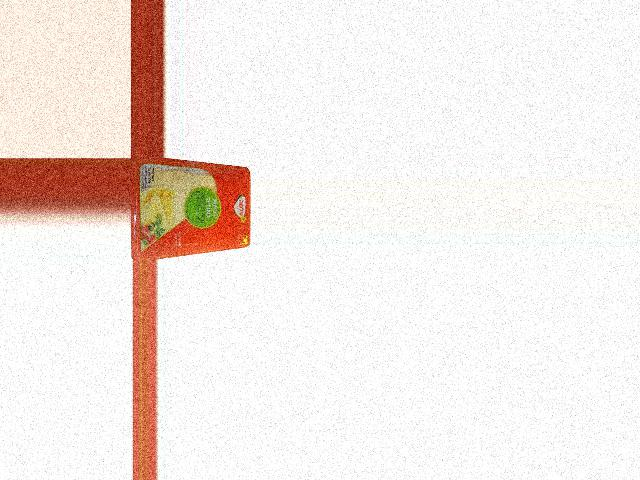cheese: (130, 160, 249, 260)
